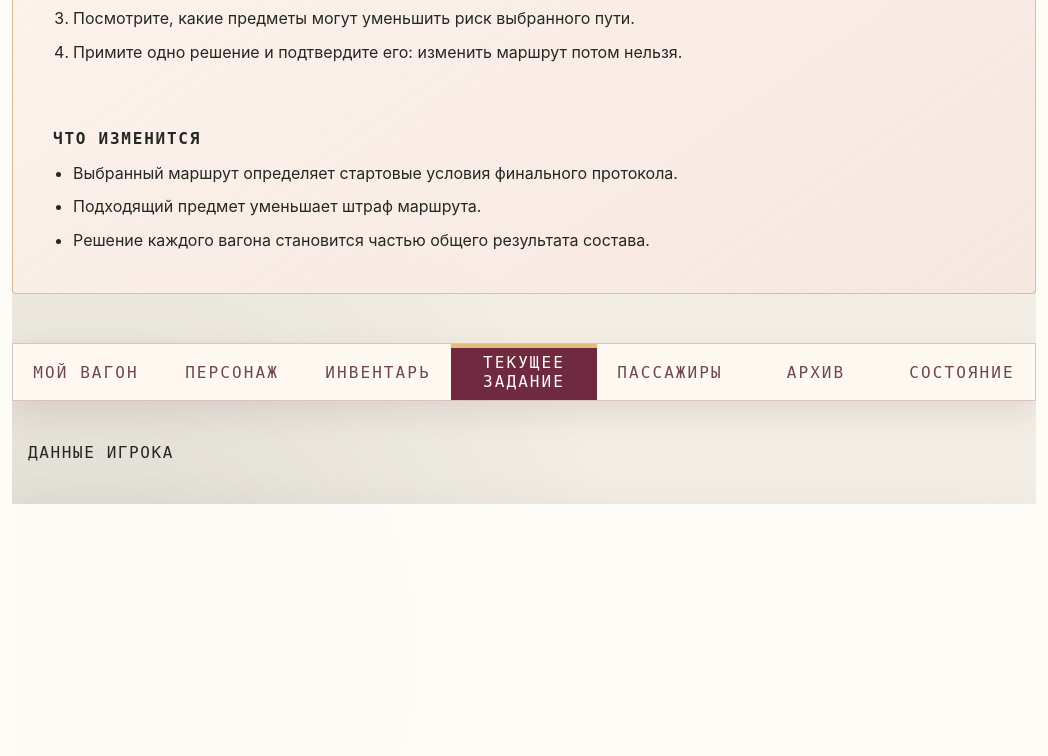
Test: persistent Bunker V2 player dashboard › renders a negative B-route time adjustment without a fake plus sign
(page scrolled)
Click the button "СОСТОЯНИЕ" at coordinates (962, 372), box [889,344,1035,400]
(page scrolled)
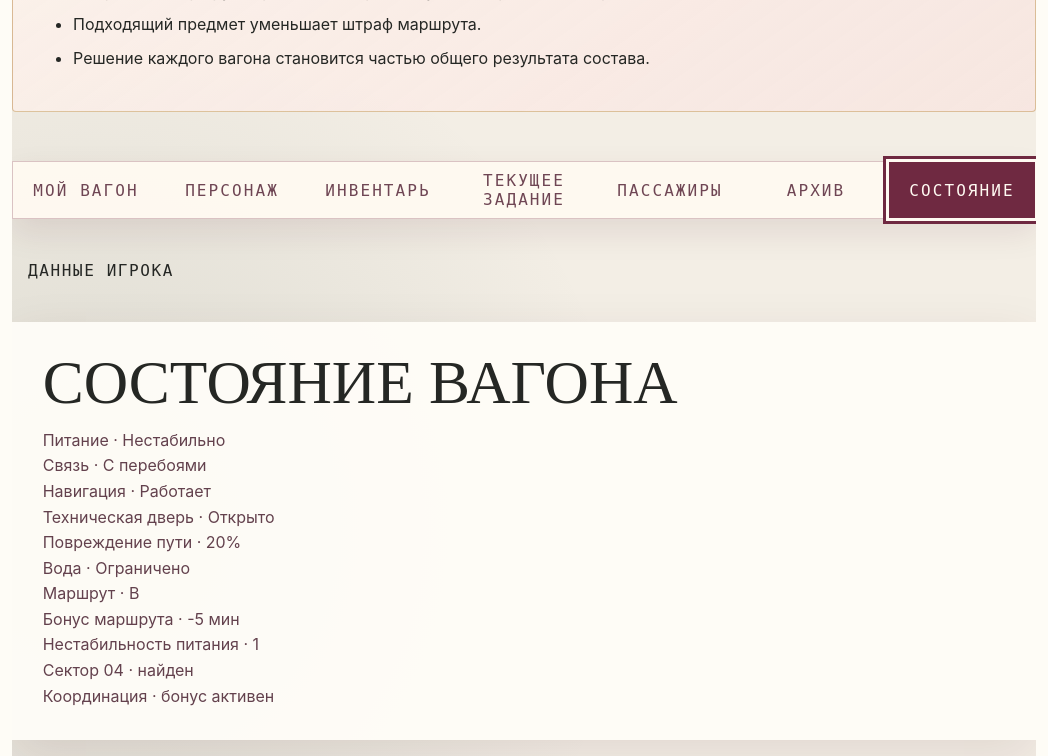
Expected: the text "Бонус маршрута · -5 мин" is shown, [43,609,240,629]
